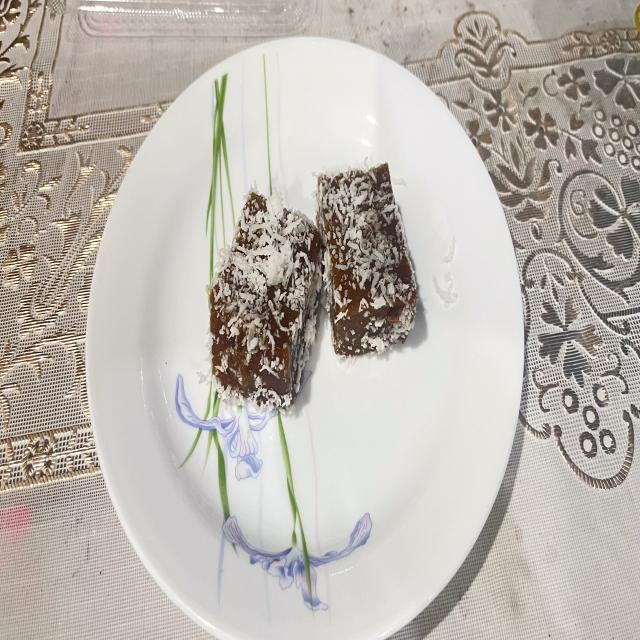kaswi: (208, 189, 321, 411), (316, 162, 418, 356)
